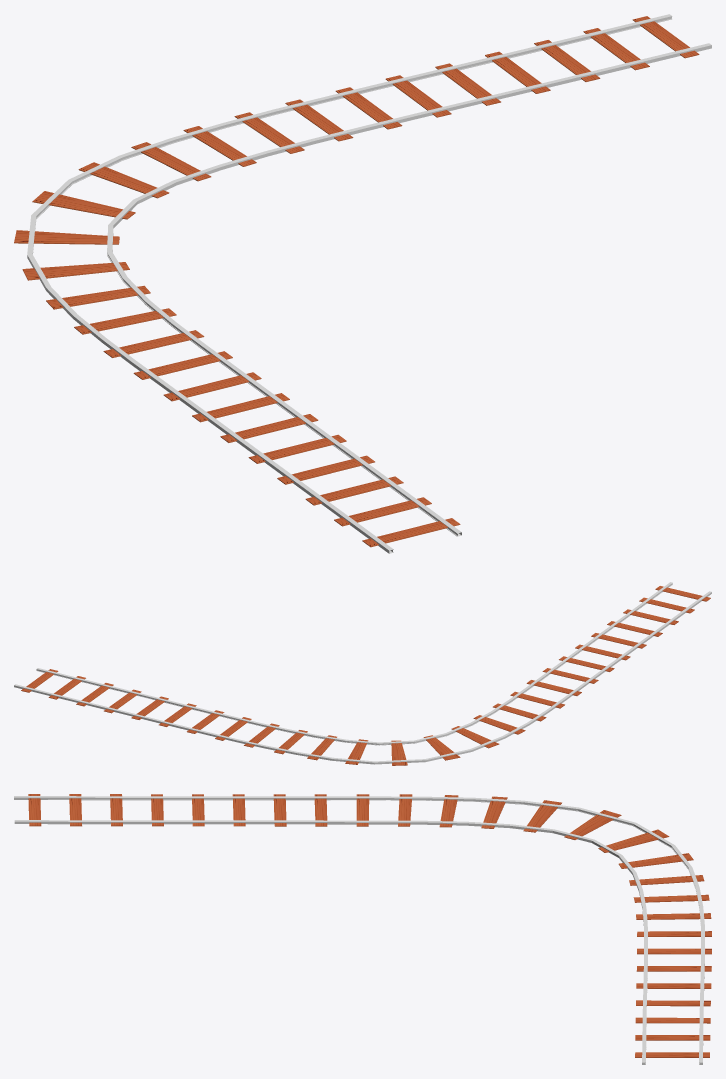
File: Right.glb
The picture shows the model from 3 angles, top to bottom: view 1: azimuth 30°, elevation 25°; view 2: azimuth 150°, elevation 25°; view 3: azimuth 270°, elevation 25°; orthographic projection. The views are drawn at different scales.
Visible parts, largest first — view 1: Cube.018; view 2: Cube.018; view 3: Cube.018.
Part boxes in pixels (x1=…): Cube.018: x1=14, y1=14, x2=711, y2=553; Cube.018: x1=14, y1=582, x2=711, y2=765; Cube.018: x1=14, y1=794, x2=711, y2=1064.
Bounding box in the file's own units: 21.25 × 0.0968 × 23.28.
Materials: 2 (1 with a texture image).
